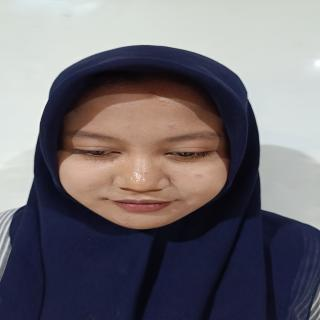Sedih: (50, 72, 232, 235)
